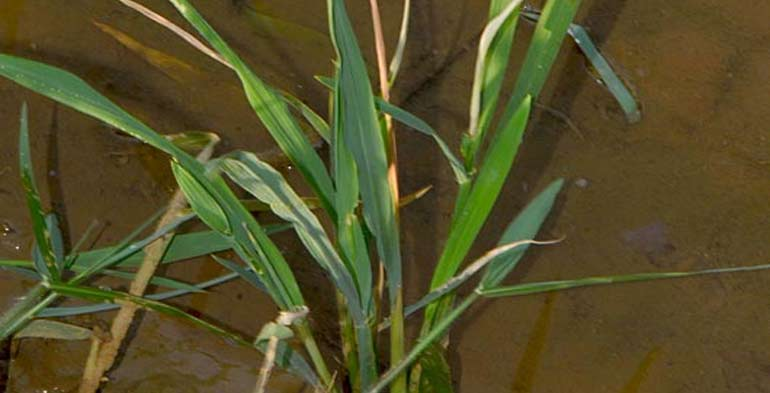Paddy_stemborer: (36, 230, 208, 310)
